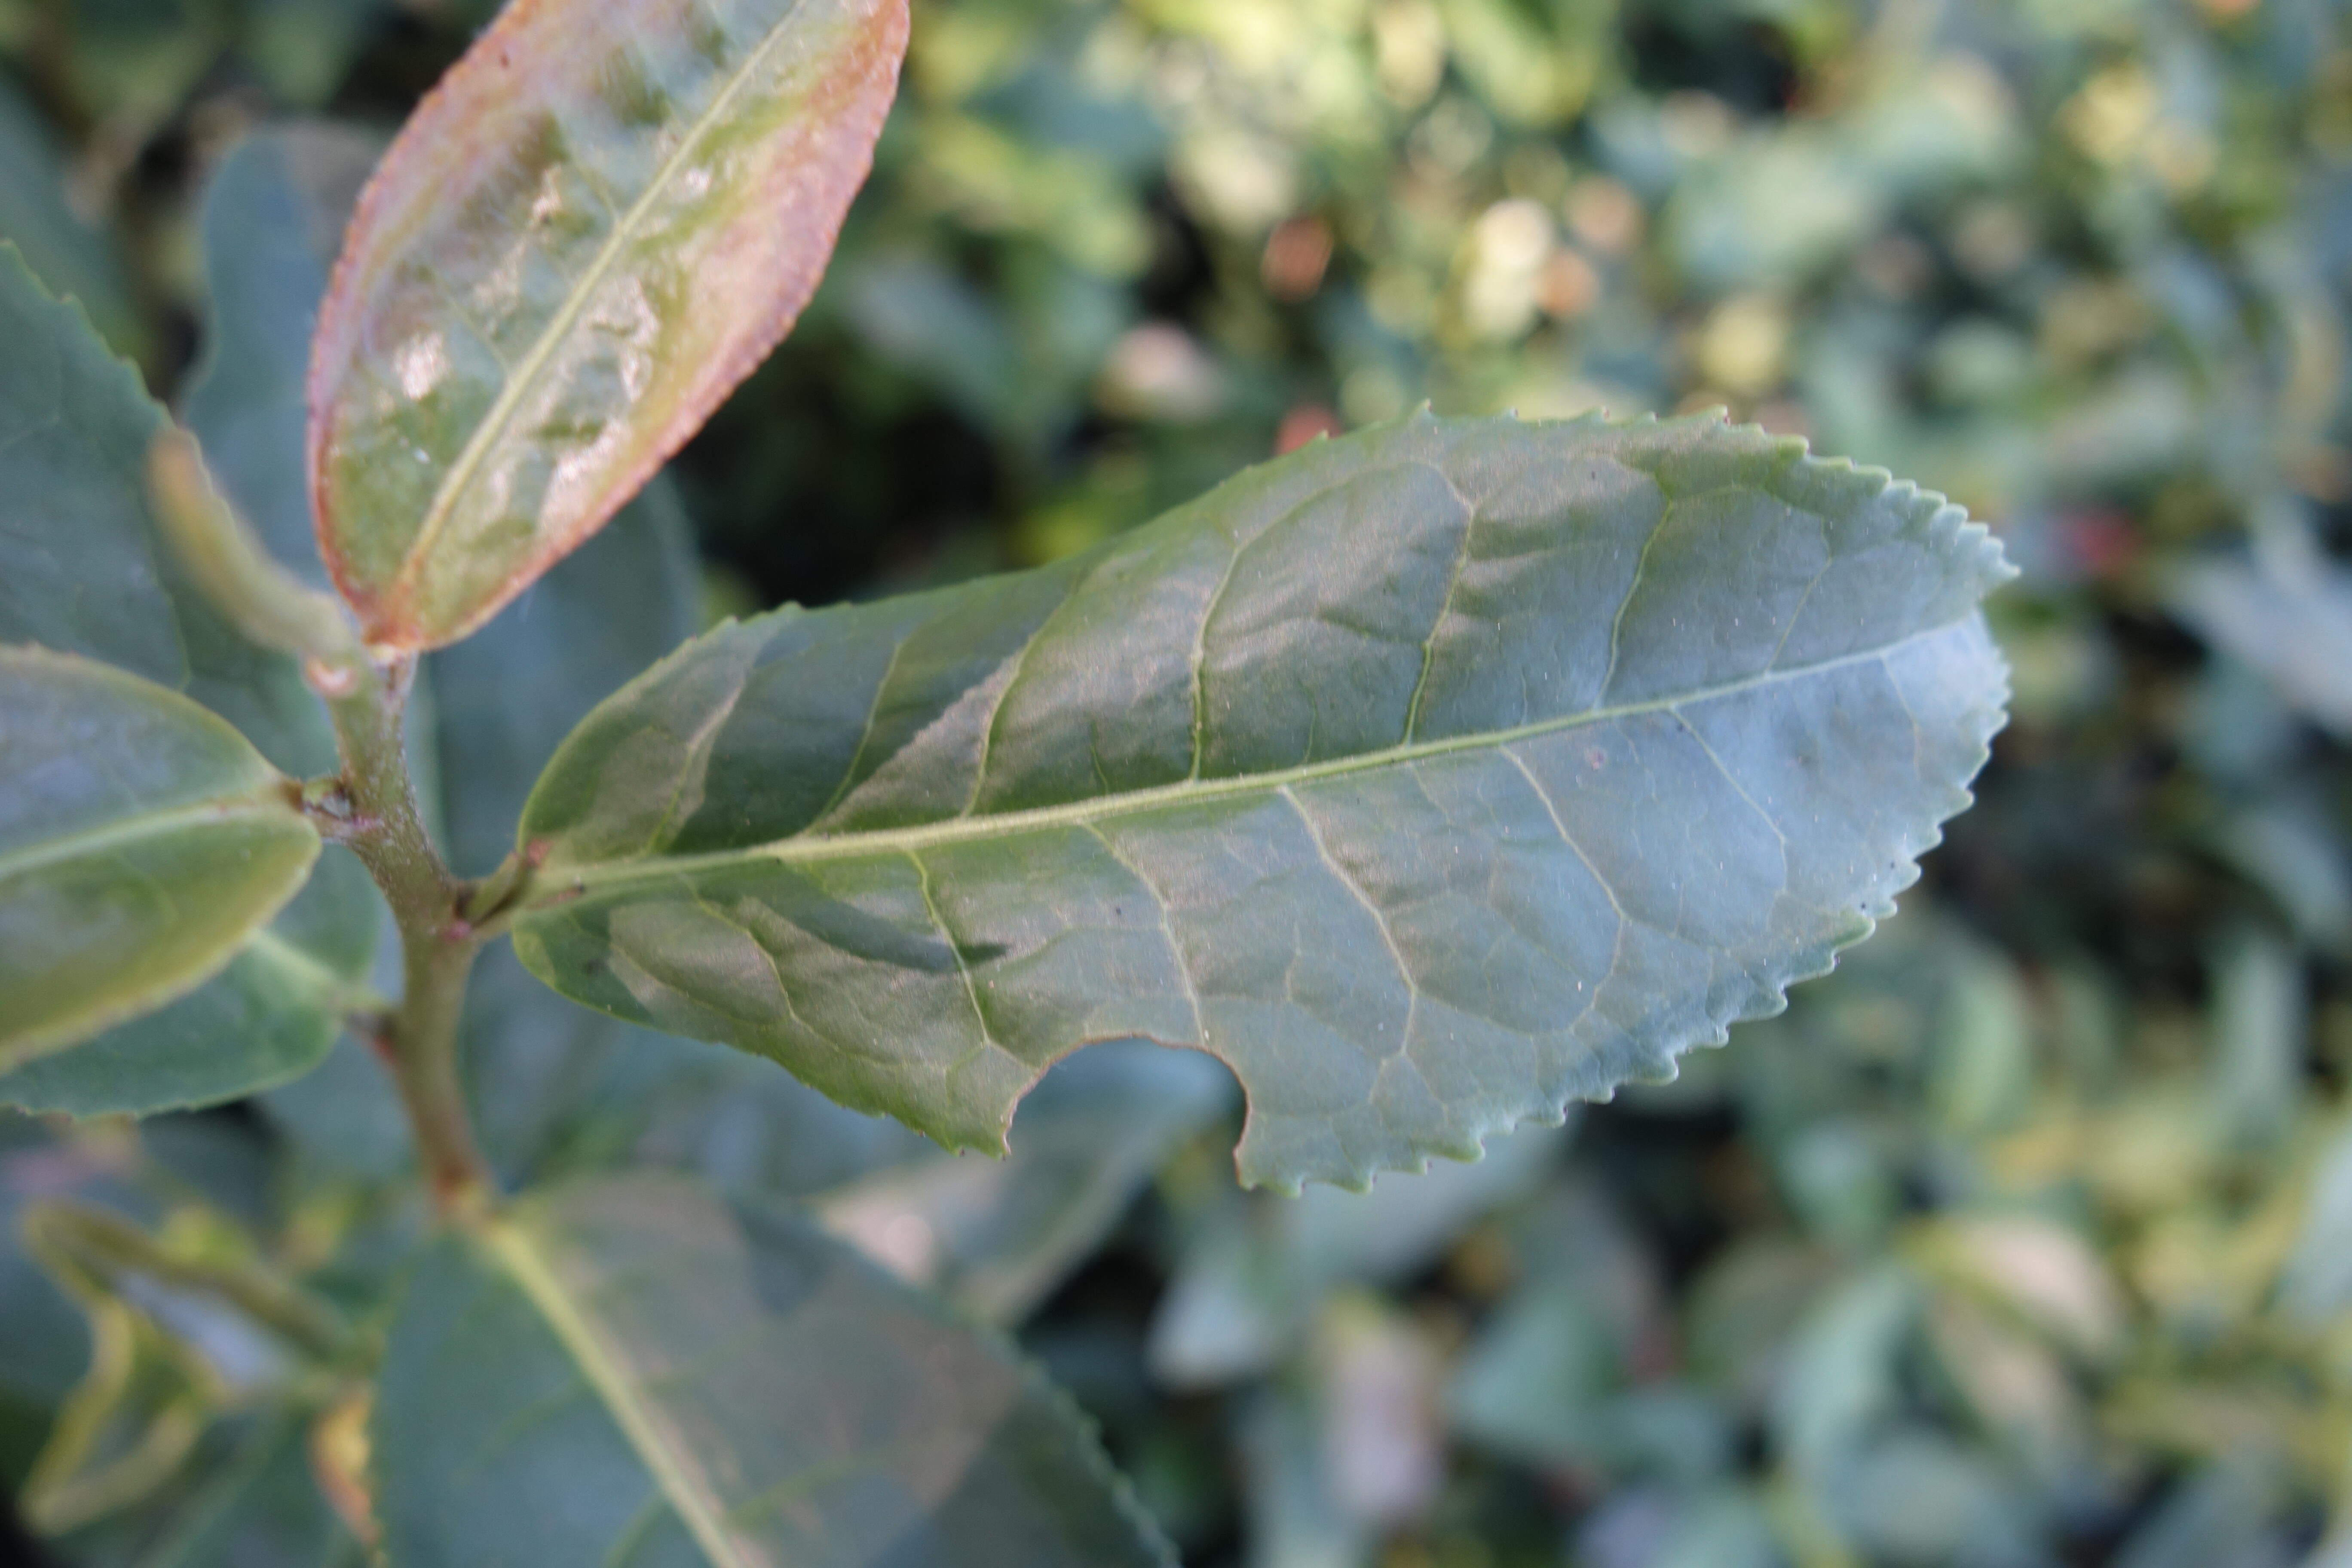chihuo_low: (514, 404, 2025, 1202)
tanju_low: (306, 3, 915, 658)
